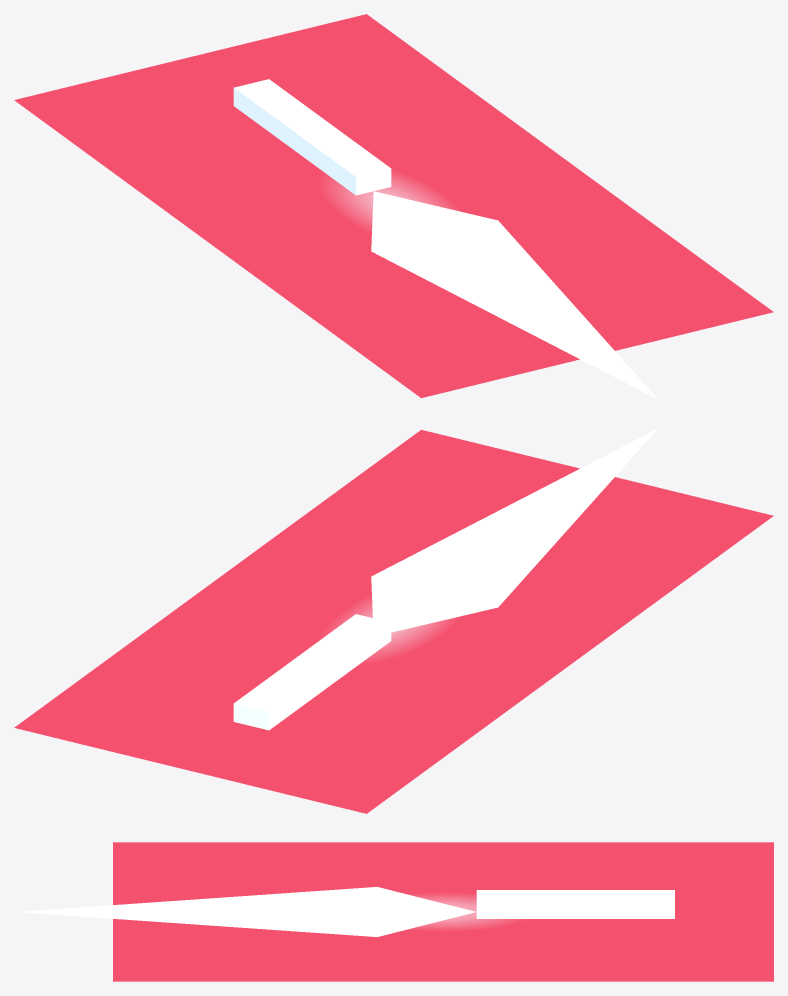
The model's file is fx_knife.glb.
3 renders of one model, top to bottom at view 1: azimuth 30°, elevation 25°; view 2: azimuth 150°, elevation 25°; view 3: azimuth 270°, elevation 25°, orthographic. The views are drawn at different scales.
Visible parts, largest first — view 1: fx_knife_glow, fx_steel; view 2: fx_knife_glow, fx_steel; view 3: fx_knife_glow, fx_steel.
Boxes of the visible parts, x1,y1,x2,y2 form: fx_knife_glow: (14,14,773,398); fx_steel: (233,79,657,399); fx_knife_glow: (14,429,773,813); fx_steel: (233,428,657,730); fx_knife_glow: (113,842,773,981); fx_steel: (16,887,674,936).
Bounding box in the file's own units: 0.5 × 0.06 × 1.15.
2 materials, 1 textured.
